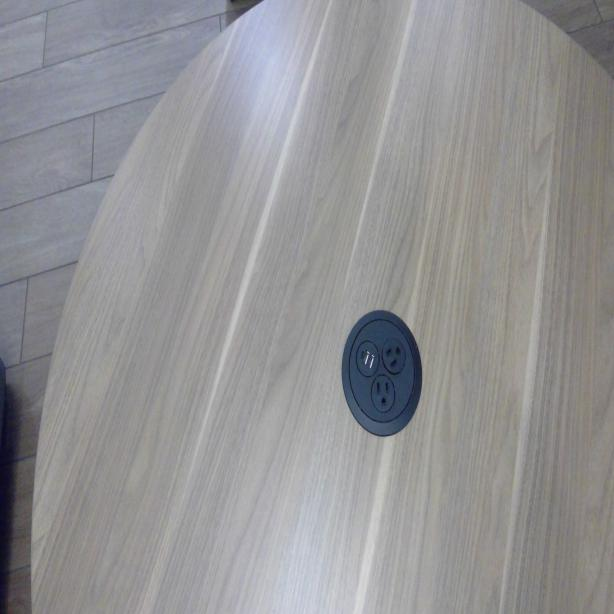typeb: (373, 376, 394, 409), (384, 339, 404, 372)
